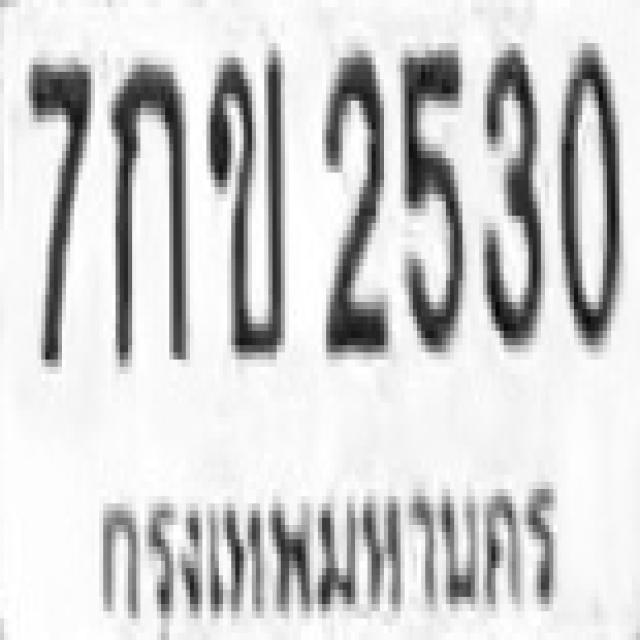0: (556, 36, 618, 345)
2: (320, 44, 386, 352)
3: (479, 43, 541, 345)
5: (397, 43, 462, 345)
7: (24, 54, 86, 363)
A01: (107, 58, 186, 360)
A02: (202, 44, 281, 352)
BKK: (87, 466, 568, 628)
